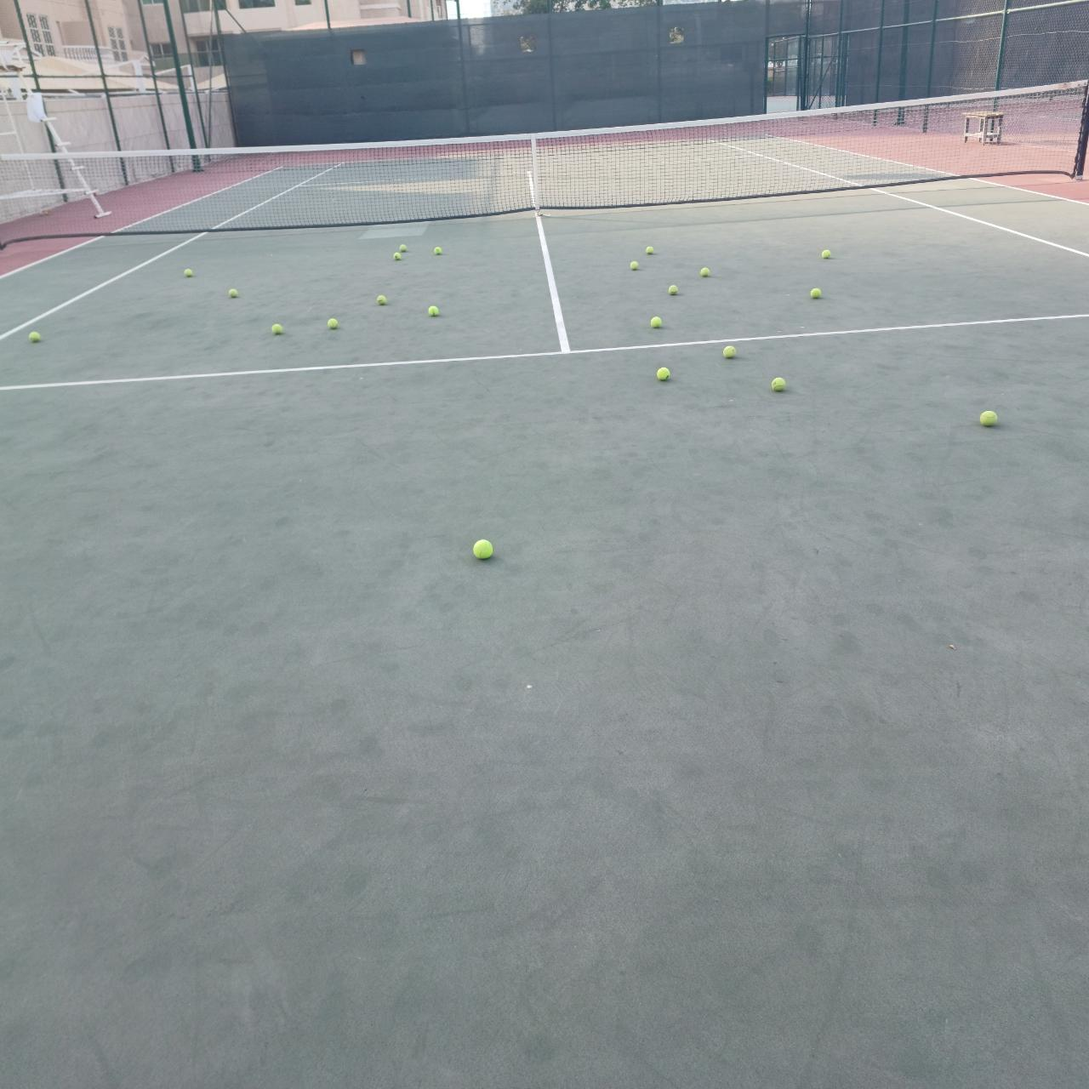tennis-ball: (470, 536, 493, 560), (978, 408, 997, 426), (27, 329, 42, 343), (772, 377, 785, 391), (656, 367, 670, 380), (723, 345, 736, 358), (427, 305, 439, 316), (650, 316, 661, 328), (271, 323, 282, 334), (327, 318, 338, 328), (668, 285, 678, 295), (811, 288, 821, 298), (377, 296, 386, 305), (701, 268, 710, 277), (184, 268, 192, 277), (229, 289, 237, 298), (630, 261, 638, 270), (822, 250, 831, 258), (399, 244, 407, 252), (394, 252, 401, 261), (434, 247, 442, 254), (646, 246, 653, 254)
